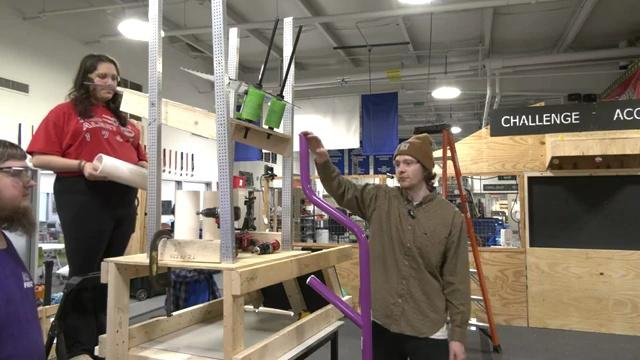CORAL: (85, 151, 148, 191), (174, 191, 201, 238)
